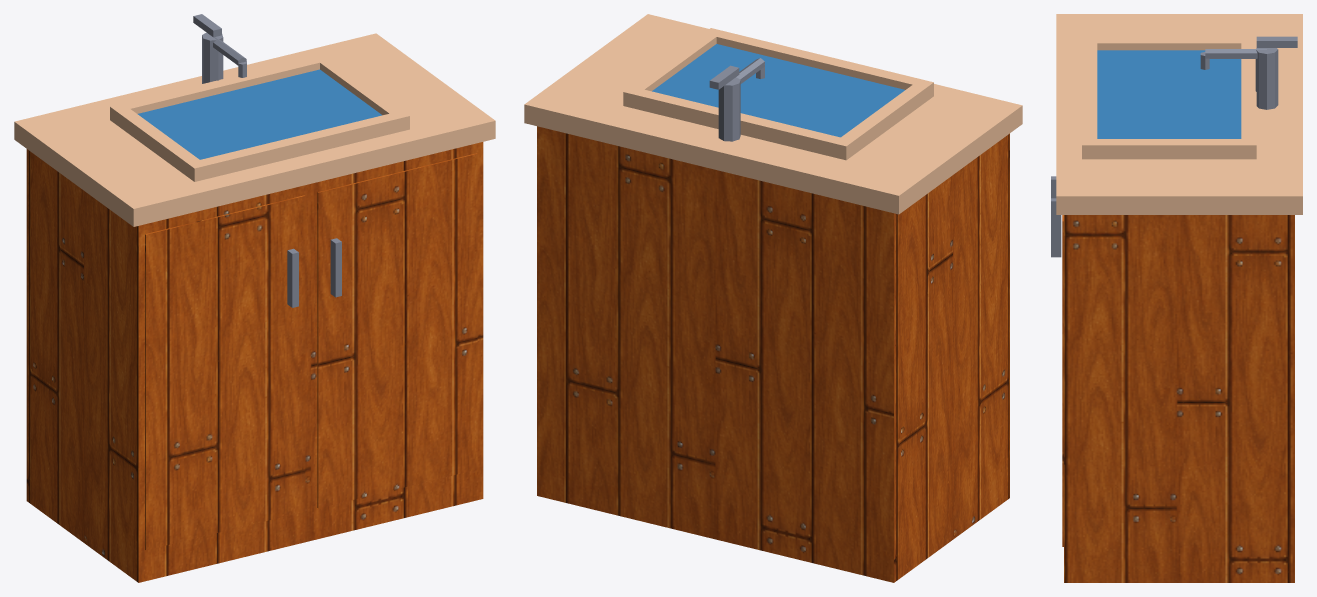
File: Bathroom_Sink.fbx
The picture shows the model from 3 angles, left to right: view 1: azimuth 30°, elevation 25°; view 2: azimuth 150°, elevation 25°; view 3: azimuth 270°, elevation 25°; orthographic projection. The views are drawn at different scales.
Parts seen in each view (by area): view 1: Bathroom_Sink; view 2: Bathroom_Sink; view 3: Bathroom_Sink.
Part boxes in pixels (box(x1,y1,x2,y2)): Bathroom_Sink: box(14, 14, 495, 582); Bathroom_Sink: box(524, 14, 1022, 582); Bathroom_Sink: box(1051, 14, 1302, 582).
Size of the model in its own units: 0.84 by 0.9825 by 0.49.
